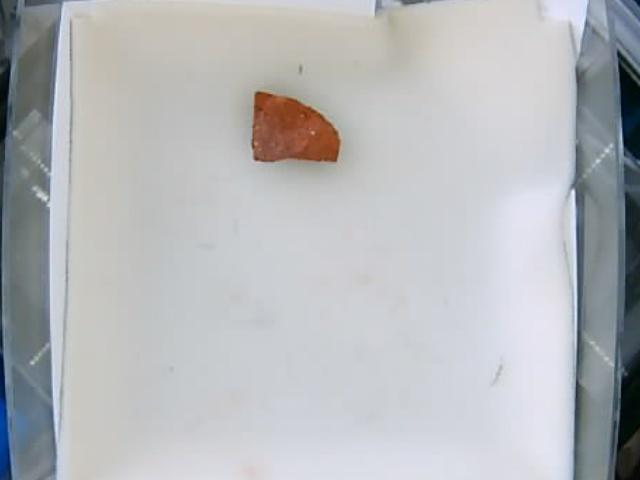Brisk: (249, 88, 344, 165)
